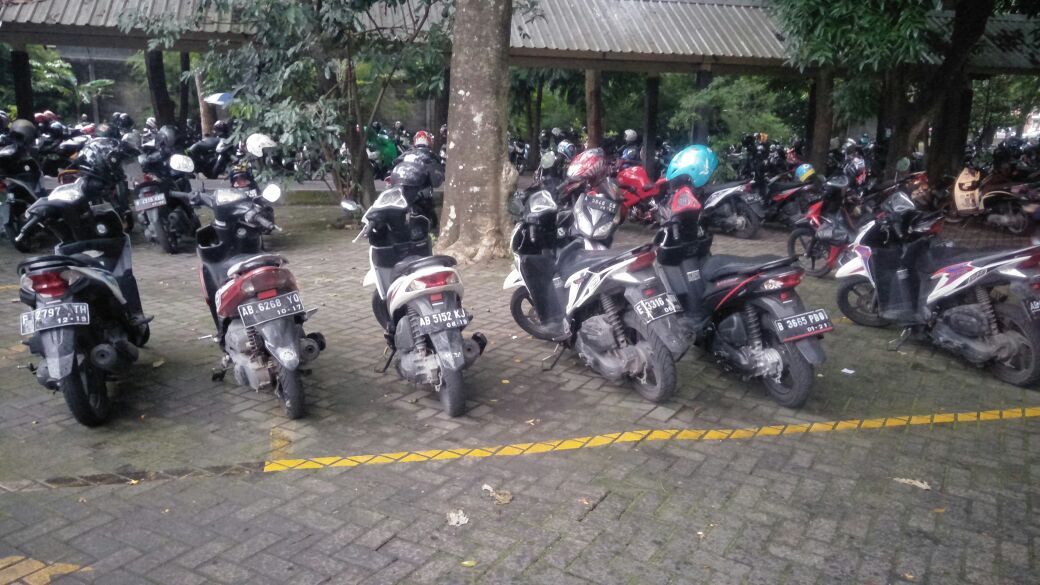plate: (238, 289, 304, 325), (773, 307, 836, 342), (20, 303, 90, 334), (634, 293, 683, 325), (418, 308, 469, 332), (581, 195, 616, 214), (136, 194, 166, 211)
